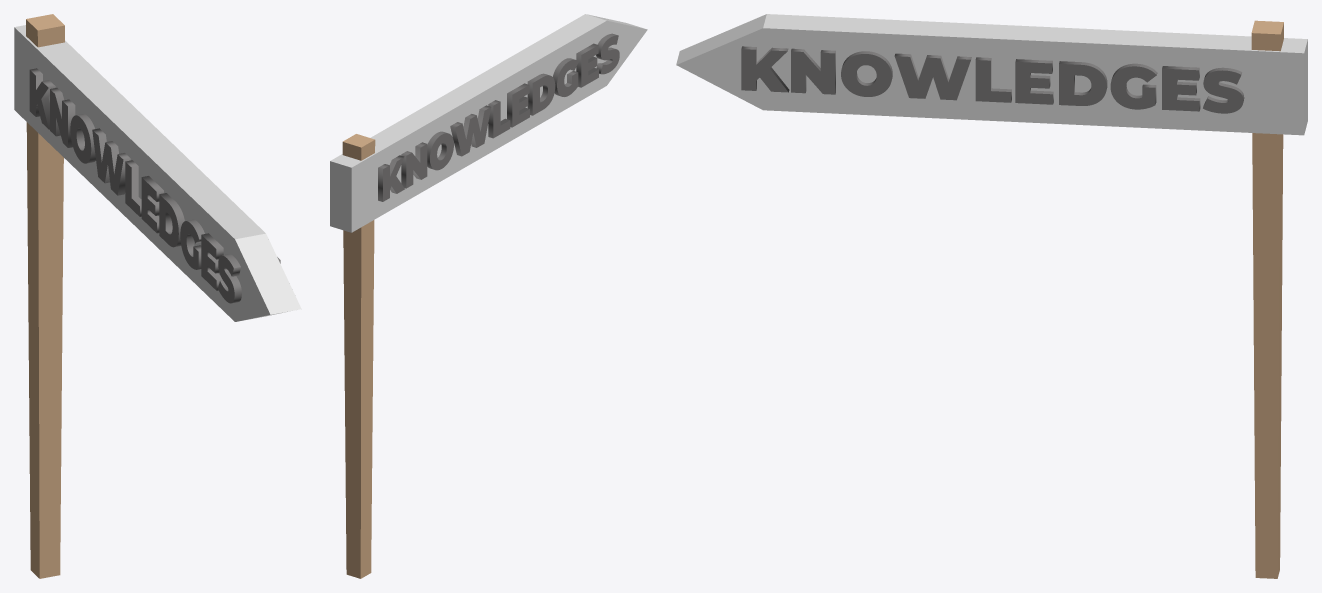
File: navigation_board_knowledge.fbx
3 views of the same model, side by side, from view 1: azimuth 30°, elevation 25°; view 2: azimuth 150°, elevation 25°; view 3: azimuth 270°, elevation 25° (orthographic). The views are drawn at different scales.
Visible parts, largest first — view 1: Cube.001, Cube, Text.002; view 2: Cube.001, Cube, Text.002; view 3: Cube.001, Text.001, Cube.
Part boxes in pixels (left/top/right/bottom): Cube.001: left=14, top=25, right=301, bottom=321; Cube: left=26, top=14, right=64, bottom=578; Text.002: left=29, top=68, right=241, bottom=303; Cube.001: left=330, top=14, right=647, bottom=232; Cube: left=342, top=134, right=375, bottom=578; Text.002: left=378, top=33, right=619, bottom=201; Cube.001: left=676, top=14, right=1307, bottom=135; Text.001: left=741, top=46, right=1244, bottom=113; Cube: left=1251, top=20, right=1283, bottom=578.
Bounding box in the file's own units: 30.4 × 179 × 187.
